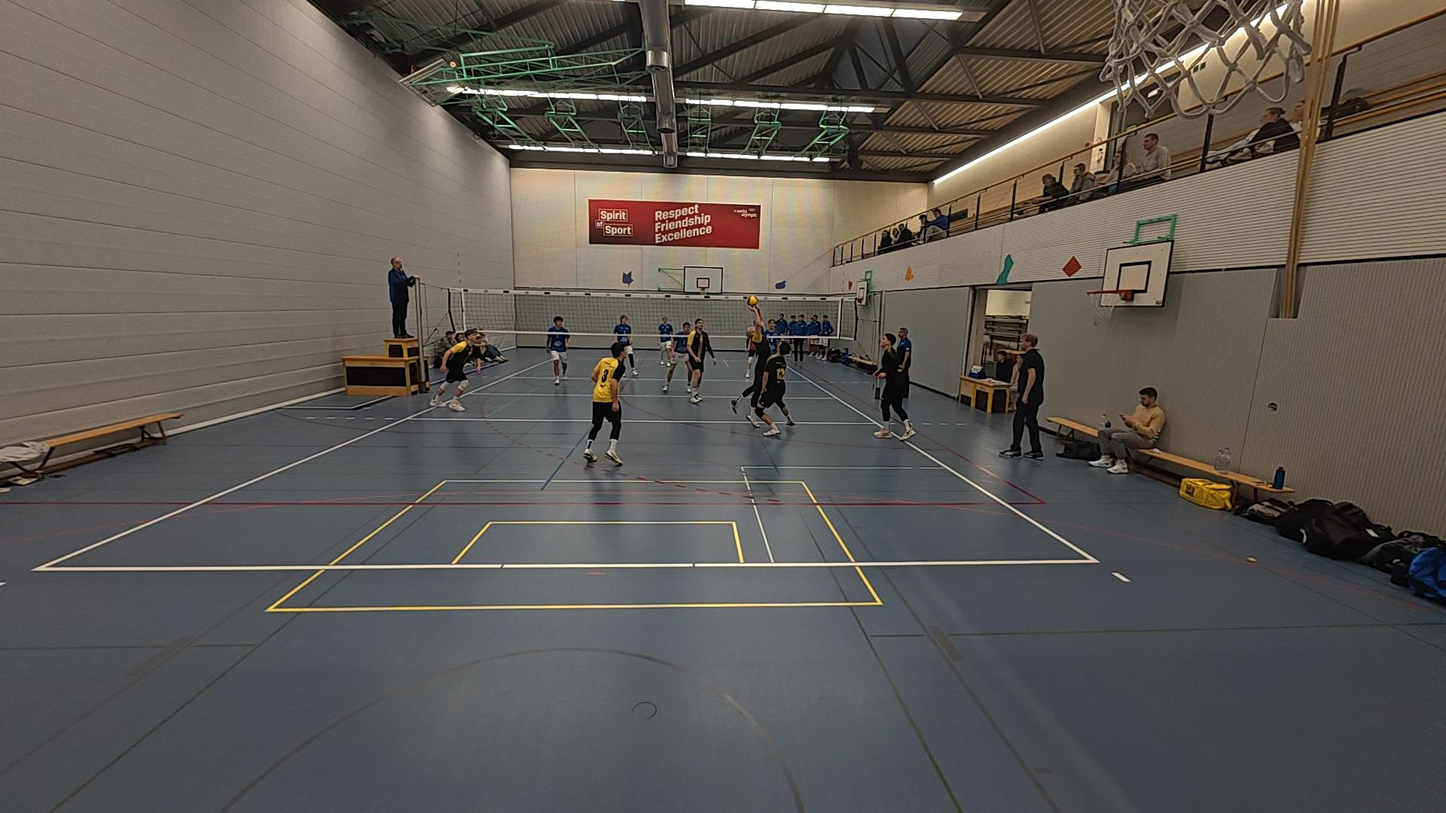Player: (581, 343, 627, 467), (874, 327, 917, 444), (434, 329, 485, 412), (755, 340, 797, 438), (662, 317, 695, 397), (685, 318, 712, 405), (547, 315, 571, 386), (743, 318, 765, 380), (654, 315, 679, 369), (612, 313, 633, 372), (761, 317, 781, 376)
Set: (727, 300, 772, 431)
ball: (745, 294, 758, 305)
